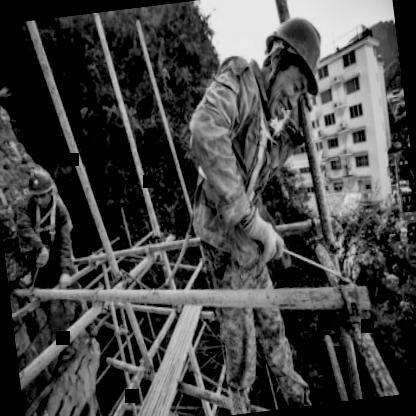helmet: (250, 0, 337, 129), (23, 163, 57, 214)
